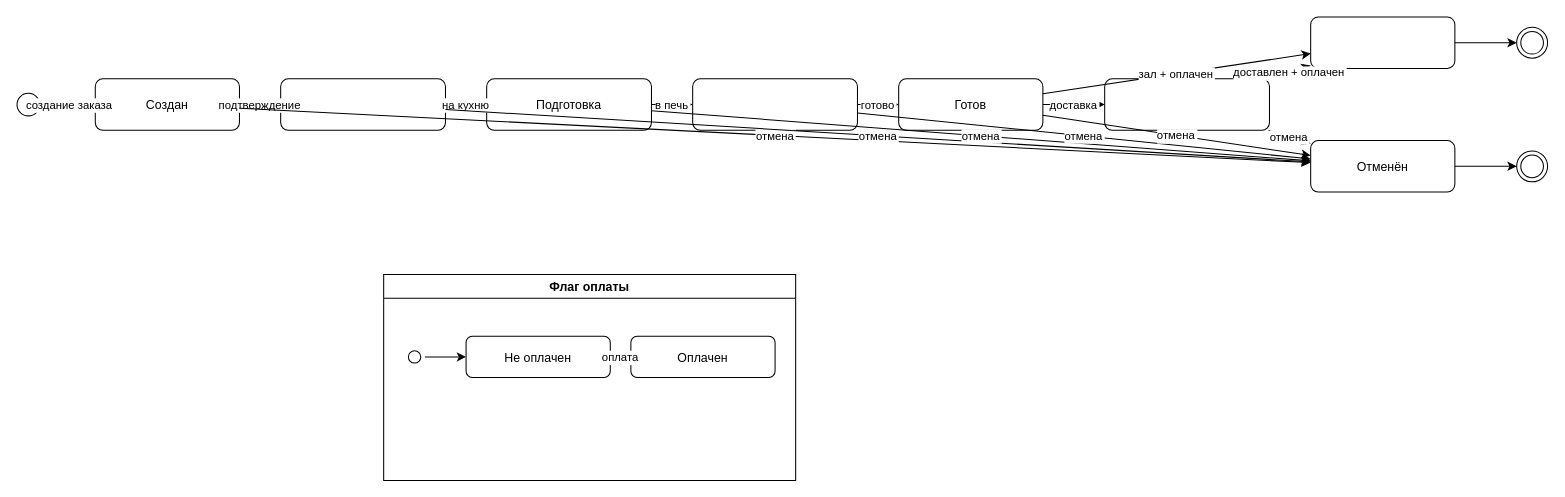
Image size: 1565x497. Some labels were removed from this diagram. Here are the shapes that lost their labels. From the top down, the centre of each, then its label:
(x=1382, y=42): Выполнен
(x=362, y=104): Подтверждён
(x=774, y=104): Выпекается
(x=1186, y=104): В доставке
